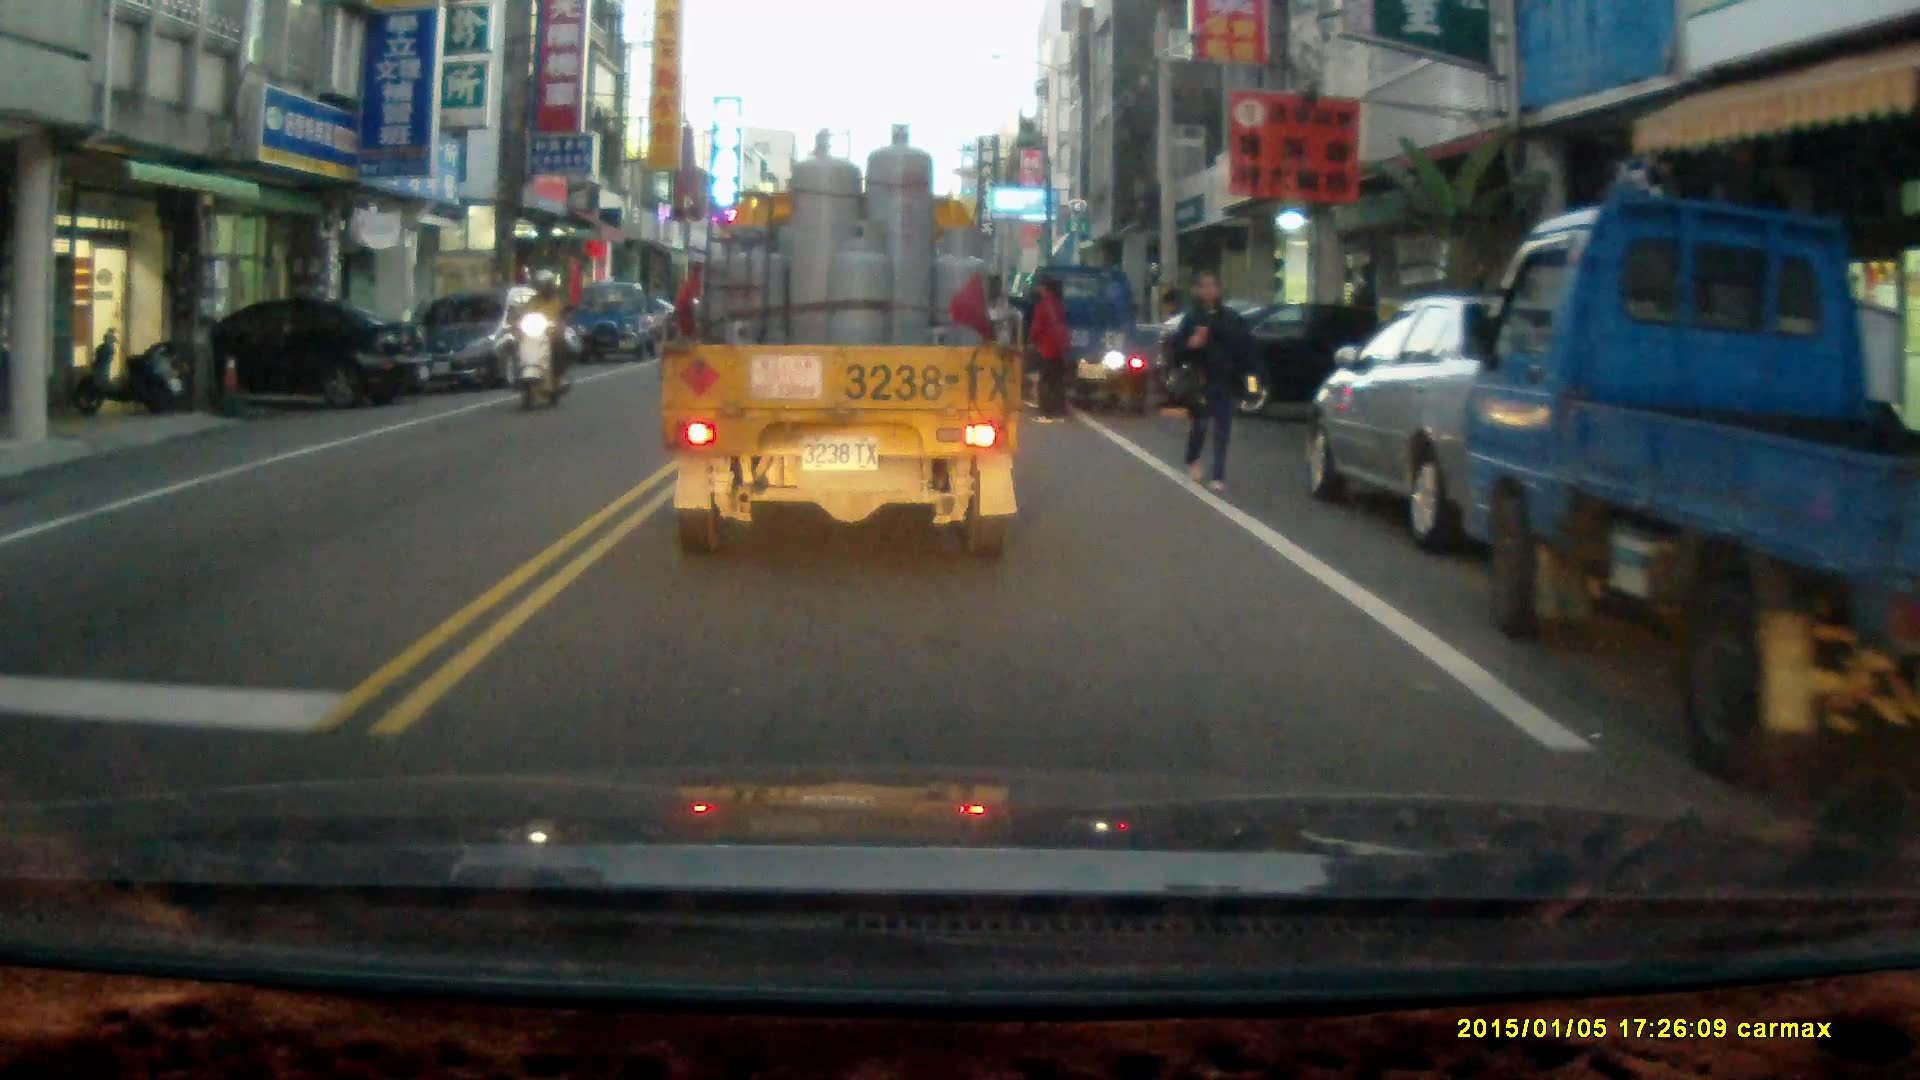pedestrian: (1166, 262, 1264, 488), (1024, 275, 1067, 418)
rider: (510, 265, 574, 411)
vehicle: (1461, 189, 1920, 780), (663, 123, 1026, 565), (1306, 291, 1648, 558), (1164, 297, 1452, 431), (119, 294, 427, 409), (1009, 261, 1163, 412), (417, 290, 563, 395), (568, 279, 675, 365)
